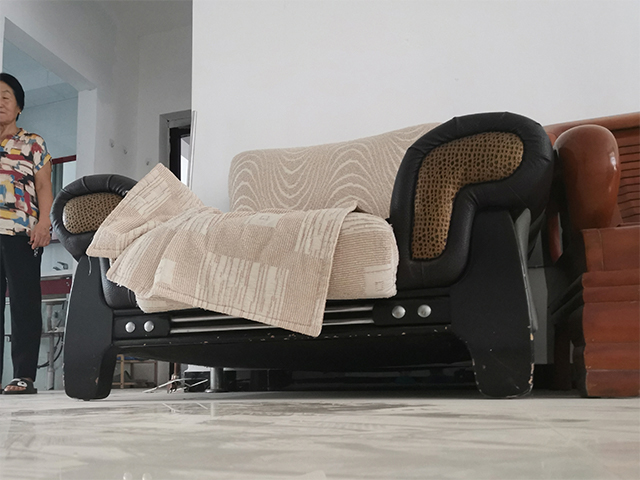sofa: (47, 110, 557, 403)
